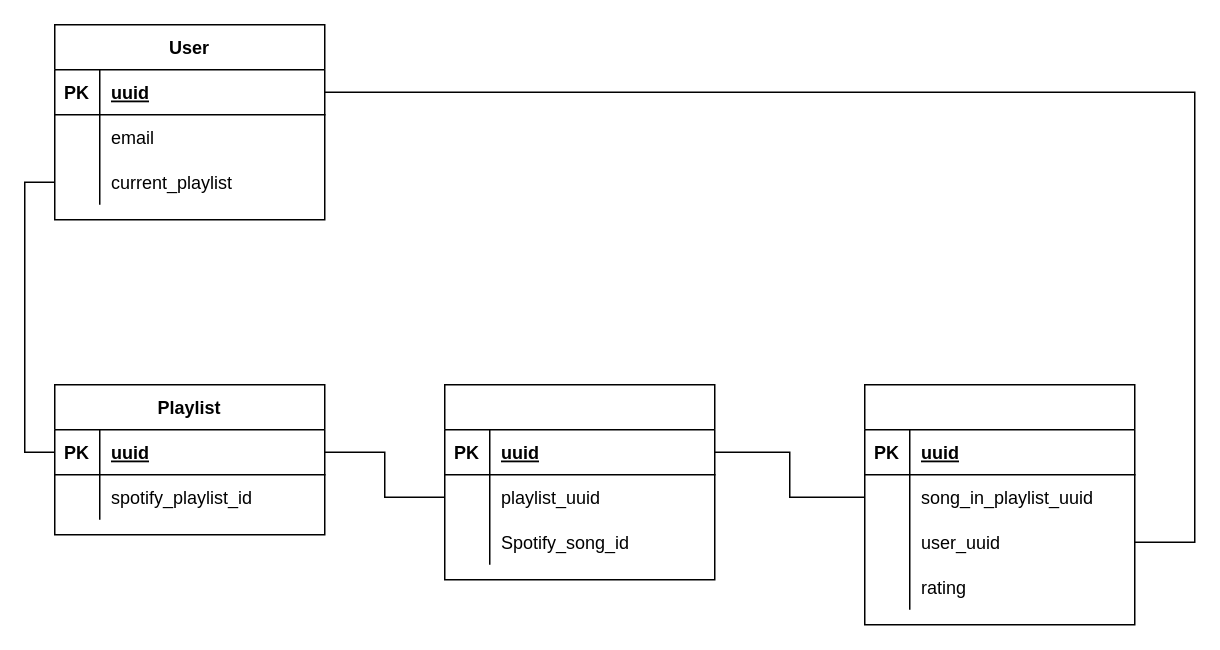
The diagram is 1220 pixels wide and 650 high, and some of its shapes have lost their labels. The box of each missing label's shape, as (x1, y1, x2, y2) in pixels:
SongInPlaylist: (443, 383, 715, 580)
UserSongRating: (863, 383, 1135, 625)
